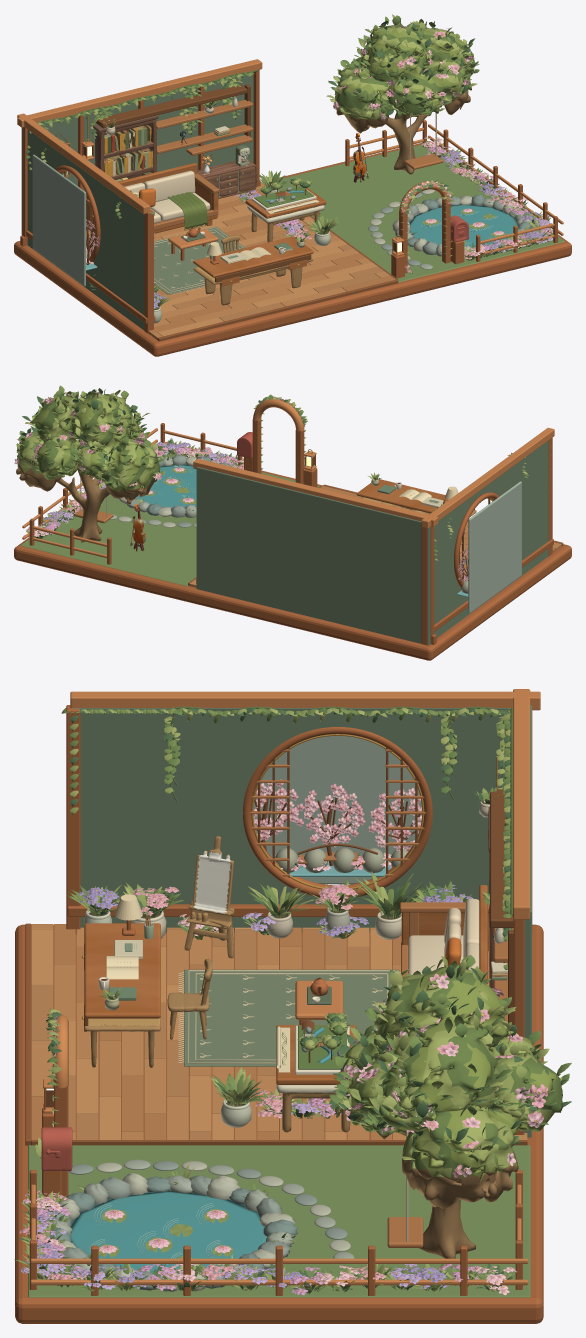
3 renders of one model, top to bottom at view 1: azimuth 30°, elevation 25°; view 2: azimuth 150°, elevation 25°; view 3: azimuth 270°, elevation 25°, orthographic. The views are drawn at different scales.
Visible parts, largest first — view 1: Garden continuous grass ground, Flowering garden tree, Foundation, Window wall, Rear wall, Window garden backdrop, Walnut bookcase, Rear top beam, Sage woven rug, Pond water, Coffee sideboard, Solid walnut desktop (+39 smaller); view 2: Rear wall, Flowering garden tree, Foundation, Garden continuous grass ground, Window wall, Window garden backdrop, Rear top beam, Left top beam, Pond water, Solid walnut desktop, Flowering tree individual leaves.004, Left timber post (+15 smaller); view 3: Window wall, Garden continuous grass ground, Flowering garden tree, Foundation, Sage woven rug, Window garden backdrop, Pond water, Left top beam, Solid walnut desktop, Circular walnut window frame, Rear top beam, Illustration easel (+60 smaller).
Part boxes in pixels (x1=…): Garden continuous grass ground: x1=278, y1=144, x2=565, y2=282; Flowering garden tree: x1=335, y1=24, x2=474, y2=174; Foundation: x1=14, y1=141, x2=571, y2=356; Window wall: x1=27, y1=130, x2=144, y2=330; Rear wall: x1=21, y1=72, x2=253, y2=235; Window garden backdrop: x1=32, y1=154, x2=85, y2=286; Walnut bookcase: x1=93, y1=115, x2=158, y2=181; Rear top beam: x1=17, y1=59, x2=262, y2=127; Sage woven rug: x1=154, y1=226, x2=244, y2=294; Pond water: x1=409, y1=204, x2=518, y2=247; Coffee sideboard: x1=197, y1=145, x2=257, y2=198; Solid walnut desktop: x1=193, y1=236, x2=313, y2=277; Rear wall: x1=196, y1=467, x2=430, y2=645; Flowering garden tree: x1=16, y1=392, x2=159, y2=542; Foundation: x1=14, y1=470, x2=571, y2=660; Garden continuous grass ground: x1=21, y1=452, x2=319, y2=586; Window wall: x1=434, y1=440, x2=548, y2=637; Window garden backdrop: x1=468, y1=481, x2=521, y2=613; Rear top beam: x1=193, y1=458, x2=438, y2=526; Left top beam: x1=421, y1=427, x2=554, y2=528; Pond water: x1=136, y1=464, x2=196, y2=507; Solid walnut desktop: x1=356, y1=479, x2=448, y2=513; Flowering tree individual leaves.004: x1=16, y1=391, x2=164, y2=485; Left timber post: x1=421, y1=524, x2=427, y2=645; Window wall: x1=73, y1=708, x2=510, y2=932; Garden continuous grass ground: x1=28, y1=1145, x2=530, y2=1297; Flowering garden tree: x1=340, y1=966, x2=562, y2=1258; Foundation: x1=15, y1=924, x2=543, y2=1323; Sage woven rug: x1=184, y1=969, x2=399, y2=1066; Window garden backdrop: x1=253, y1=736, x2=421, y2=884; Pond water: x1=70, y1=1190, x2=266, y2=1273; Left top beam: x1=70, y1=691, x2=540, y2=710; Solid walnut desktop: x1=84, y1=923, x2=160, y2=1018; Circular walnut window frame: x1=243, y1=727, x2=432, y2=897; Rear top beam: x1=513, y1=689, x2=530, y2=919; Illustration easel: x1=184, y1=836, x2=234, y2=958.
Bounding box in the file's own units: 15.51 × 5.61 × 9.07.
86 materials, 4 textured.
